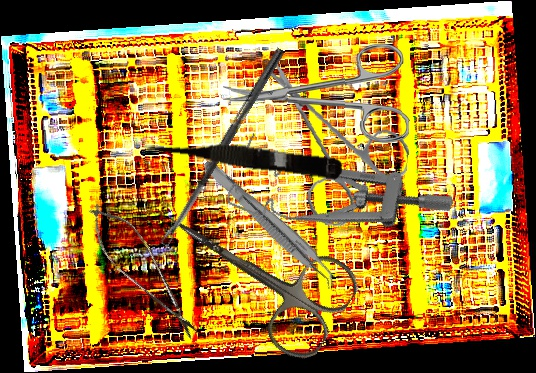Iris Scissors: (142, 171, 366, 369), (248, 59, 419, 234), (222, 40, 411, 144)
Micro Scissor: (75, 193, 213, 349), (138, 130, 344, 181)
Speculum: (221, 115, 456, 283)
Surgical Spoon: (158, 46, 286, 248)
Tissue Forceps: (194, 157, 344, 291)
